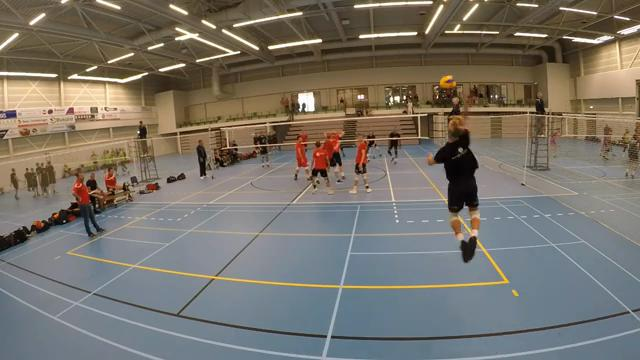battuta: (423, 85, 483, 263)
